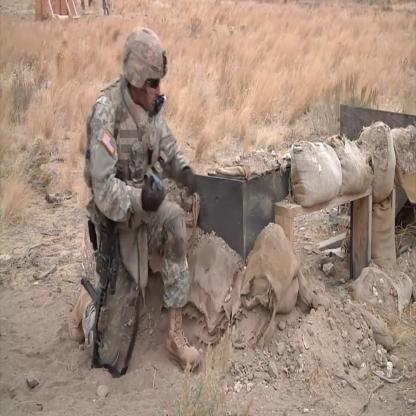Grenade: (150, 170, 164, 200)
Gun: (82, 164, 125, 369)
